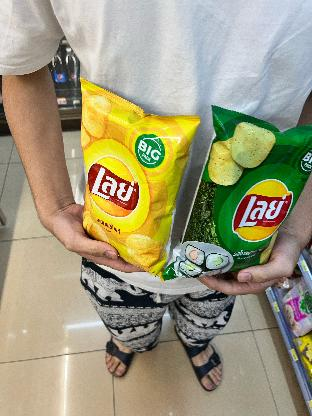Plastic Packaging: (187, 91, 312, 290), (65, 74, 180, 286)
